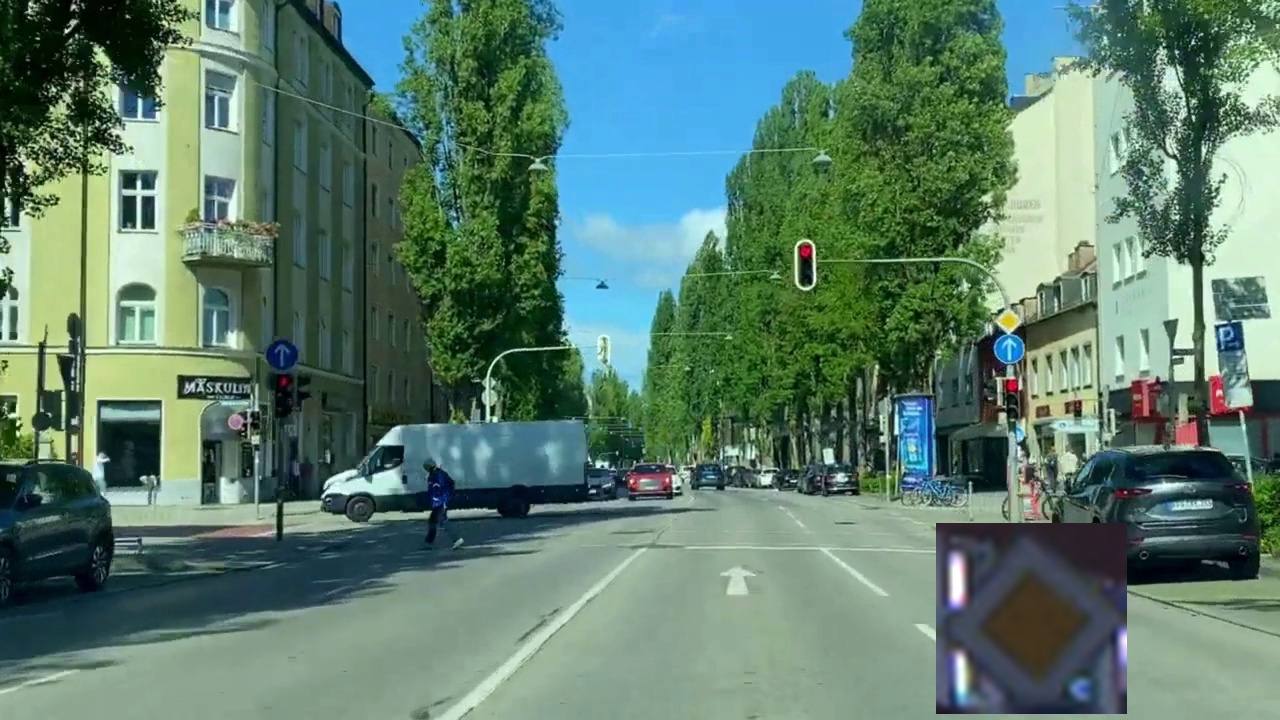Priority road: (936, 523, 1127, 714)
